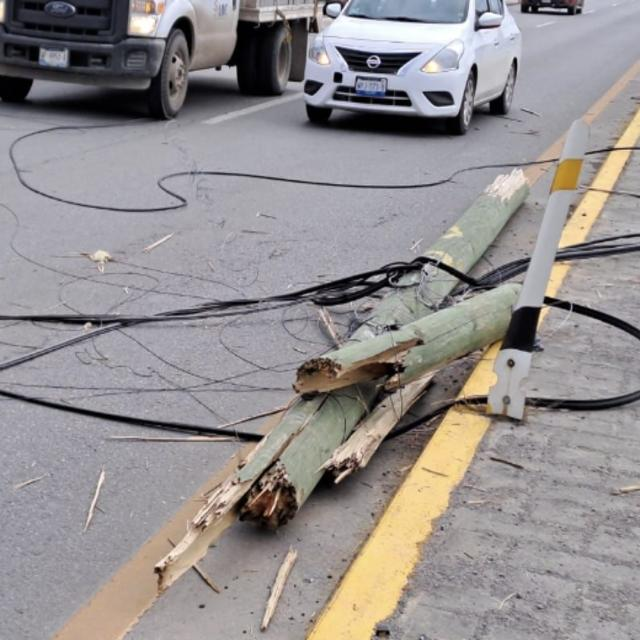Inclined Pole: (224, 158, 544, 576)
